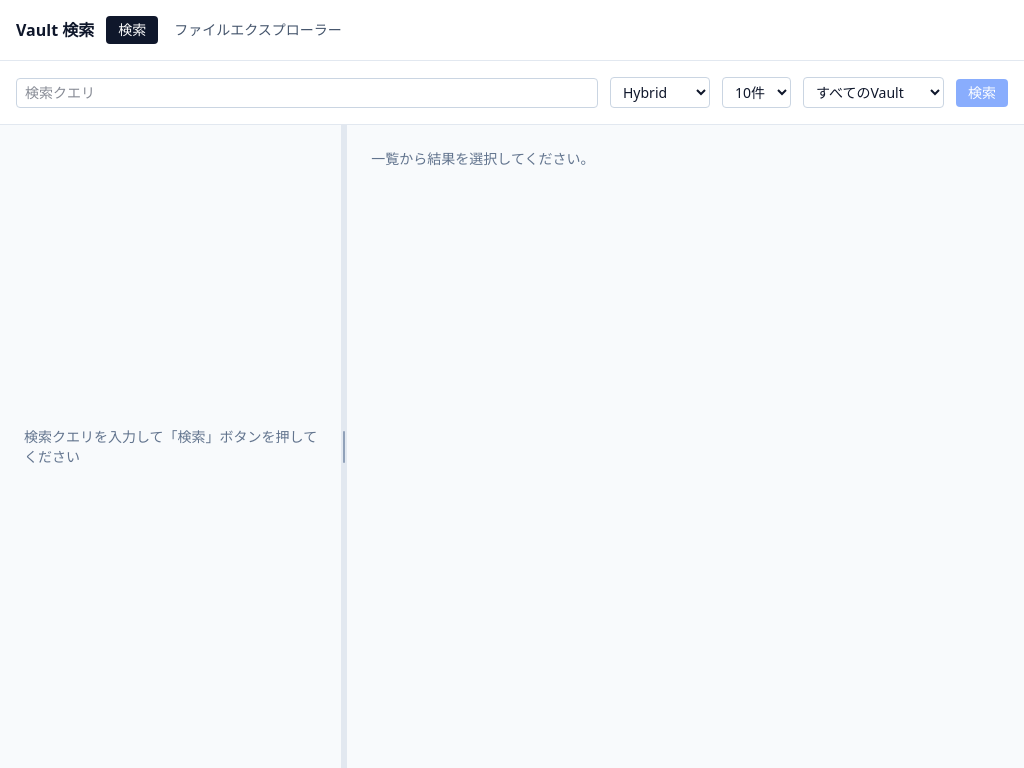
Test case: saves search to history and displays history section
Type "history test" into the search field with placeholder "検索クエリ".
click(307, 92); type("history test")  # box [16,78,598,108]
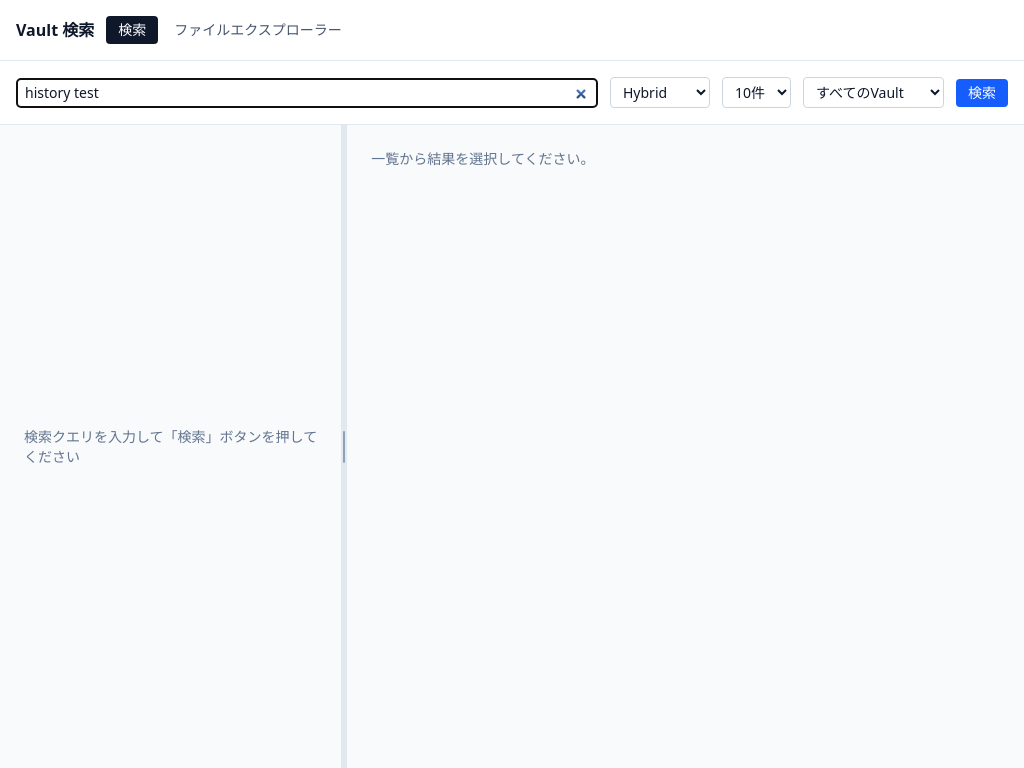
Click the button "検索".
click(982, 92)  # box [956,78,1008,106]
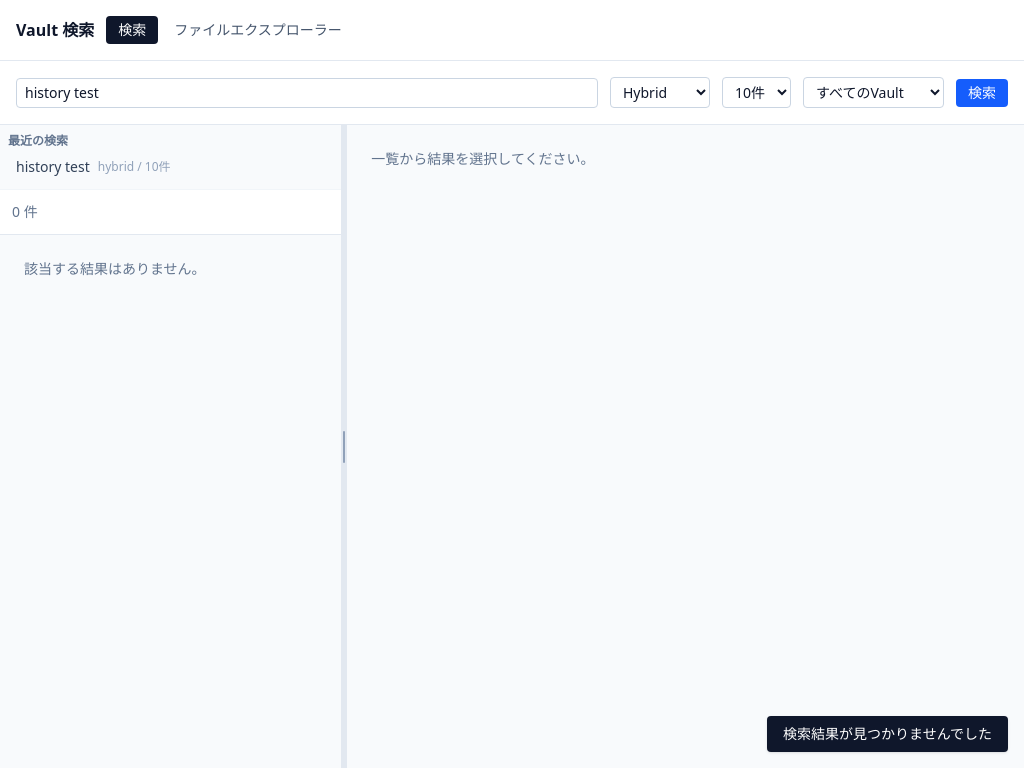
Check: the text "history test" is shown, box [16,157,90,177]
